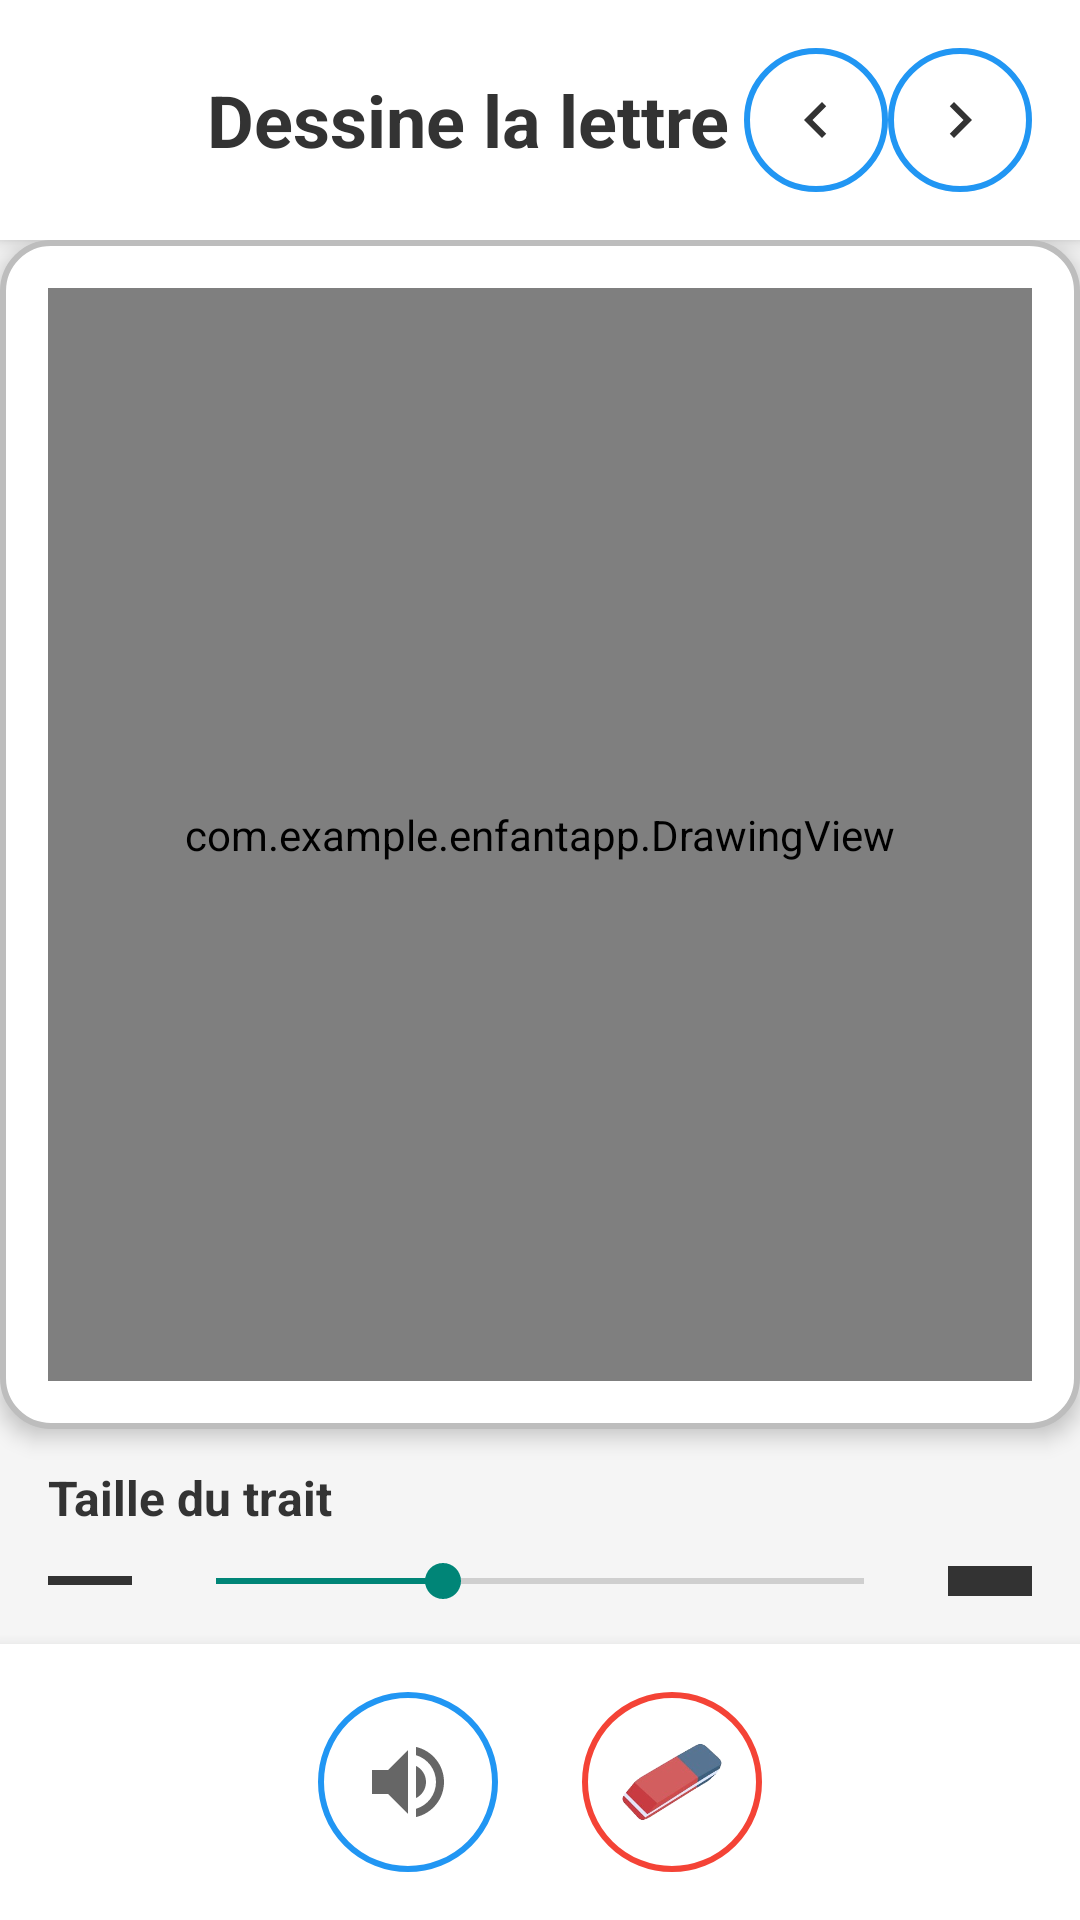

Named icons in this screenshot (1080px×1920px) and their centers, (x,y):
Effacer ❌: (672,1782)
Lettre précédente: (816,120)
Lettre suivante: (960,120)
Son 🔕: (408,1782)
